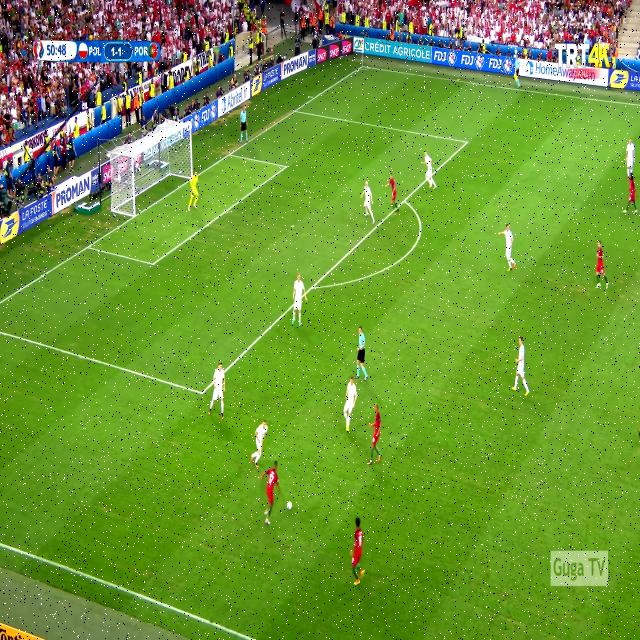Ball: (287, 504, 292, 511)
GoalKeeper: (188, 172, 200, 212)
TEAM 1: (204, 364, 228, 422), (513, 336, 531, 398), (340, 376, 356, 445), (290, 271, 308, 328), (253, 420, 271, 467), (499, 225, 515, 273), (363, 180, 377, 220), (422, 153, 436, 190), (626, 130, 638, 172)
TEAM 2: (365, 402, 390, 467), (260, 462, 280, 528), (351, 510, 367, 586), (594, 241, 609, 292), (624, 176, 637, 218), (388, 178, 399, 210)
